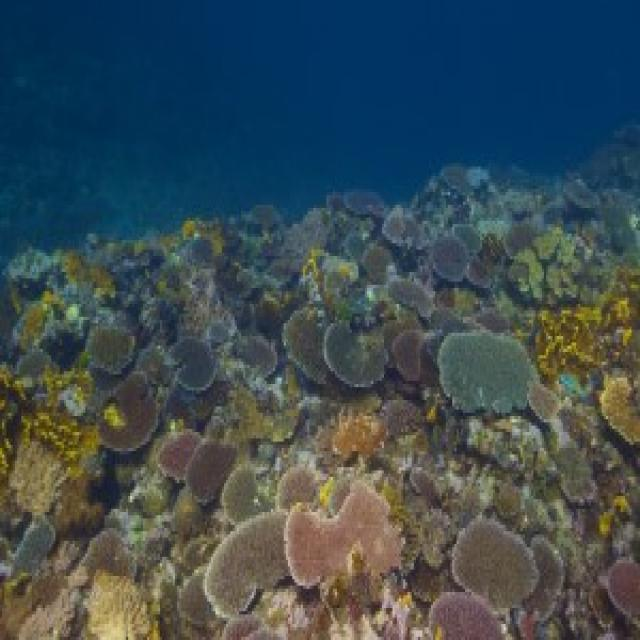Healthy: (1, 366, 99, 526), (287, 481, 400, 587), (534, 270, 639, 382), (204, 513, 289, 612), (453, 516, 539, 609), (440, 331, 536, 411), (509, 228, 598, 299), (101, 372, 159, 452), (221, 388, 298, 443), (91, 571, 148, 638), (408, 491, 455, 567), (325, 324, 383, 385), (526, 535, 564, 619), (432, 593, 502, 638), (189, 439, 236, 503), (285, 308, 325, 382), (600, 379, 639, 443), (88, 324, 135, 375), (394, 331, 440, 379), (84, 532, 133, 577), (223, 468, 263, 523), (14, 516, 54, 571), (159, 430, 199, 481), (332, 417, 385, 455), (600, 564, 639, 615), (180, 567, 214, 625), (178, 343, 216, 391), (389, 279, 434, 318), (562, 449, 594, 503), (383, 206, 428, 244), (472, 235, 504, 286), (278, 465, 315, 507), (430, 241, 466, 279), (385, 401, 423, 433), (364, 244, 391, 279), (387, 321, 419, 347), (470, 263, 494, 283)
